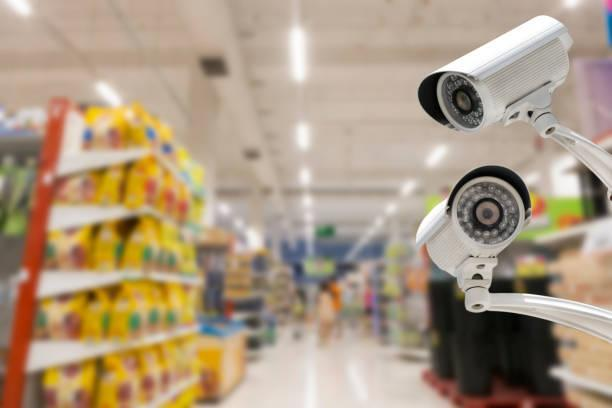camera: (381, 116, 551, 349), (410, 0, 599, 164)
